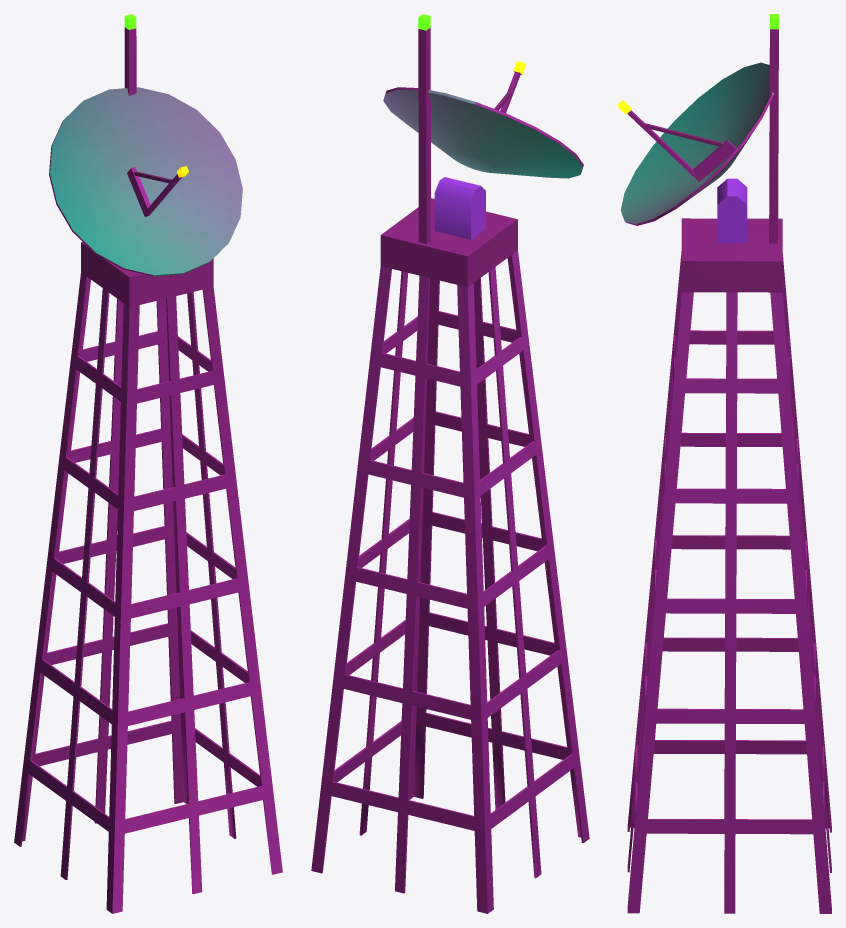
Rendered from bein_router.glb.
The picture shows the model from 3 angles, left to right: view 1: azimuth 30°, elevation 25°; view 2: azimuth 150°, elevation 25°; view 3: azimuth 270°, elevation 25°; orthographic projection. The views are drawn at different scales.
Parts seen in each view (by area): view 1: Cube.014_Base Mat_0.001, Cube.036_Base Mat_0.001; view 2: Cube.014_Base Mat_0.001, Cube.036_Base Mat_0.001; view 3: Cube.014_Base Mat_0.001, Cube.036_Base Mat_0.001.
Part boxes in pixels (x1,y1,x2,y2): Cube.014_Base Mat_0.001: [14, 14, 282, 913]; Cube.036_Base Mat_0.001: [49, 87, 242, 276]; Cube.014_Base Mat_0.001: [311, 14, 589, 913]; Cube.036_Base Mat_0.001: [383, 61, 583, 178]; Cube.014_Base Mat_0.001: [627, 14, 831, 913]; Cube.036_Base Mat_0.001: [618, 62, 774, 225].
Size of the model in its own units: 0.7468 by 3.07 by 0.6944.
1 material, 1 textured.
